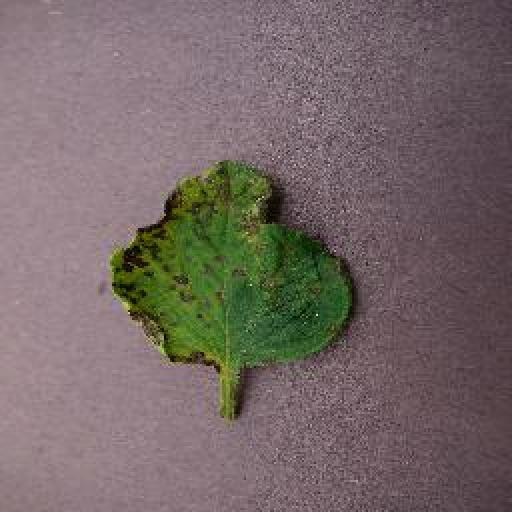disease_tomato: (111, 158, 356, 370)
